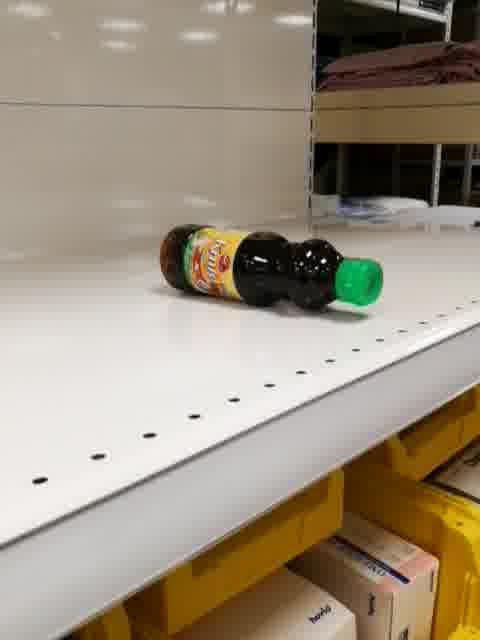cookingoil: (156, 220, 387, 316)
